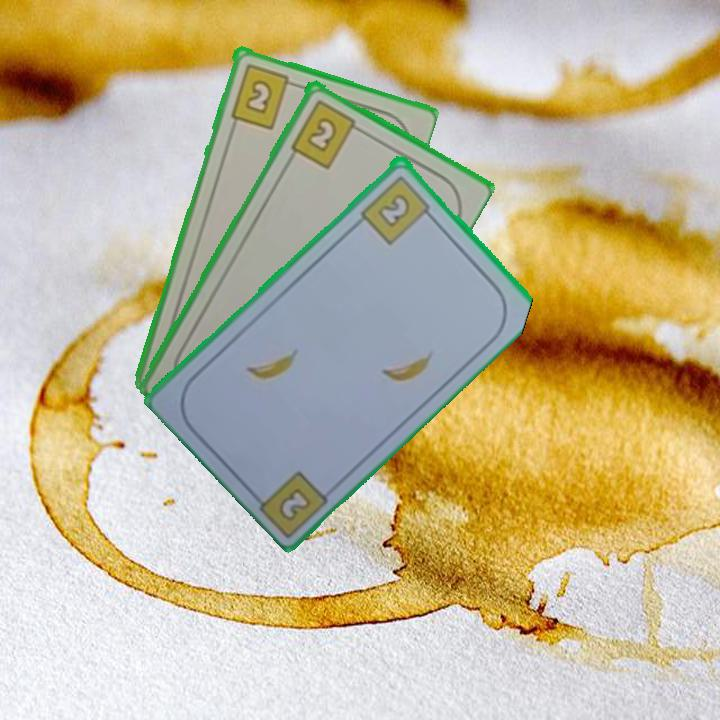2b: (357, 171, 437, 247), (286, 95, 365, 171), (226, 60, 300, 131), (278, 487, 311, 521)
